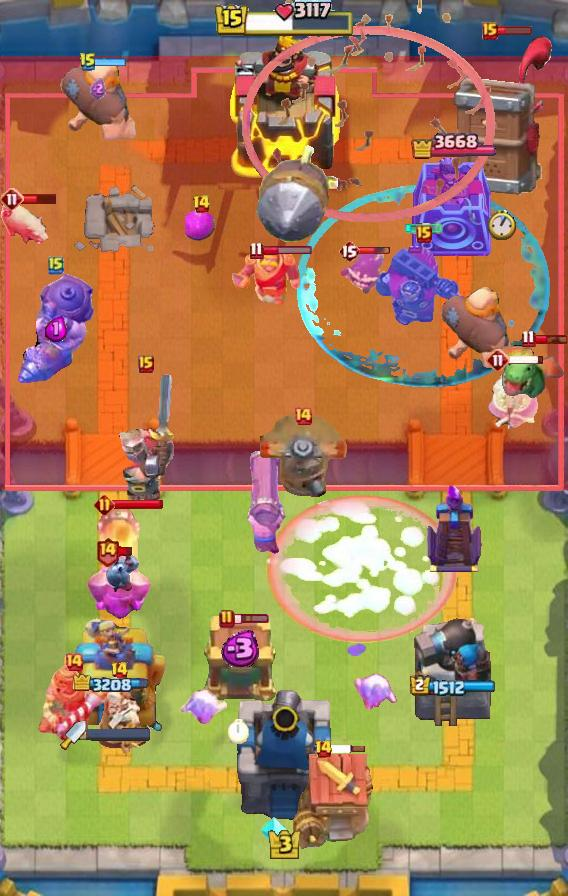balloon: (58, 58, 138, 146), (438, 286, 518, 374)
bar: (61, 615, 166, 731)
battle-healer: (242, 451, 288, 555)
bomb: (199, 615, 277, 703)
clock: (213, 0, 355, 40)
dark-prince: (258, 415, 348, 501)
dart-goblin: (452, 35, 552, 197)
electro-spirit: (216, 629, 260, 666), (45, 316, 67, 342), (90, 77, 106, 98)
electro-wizard: (492, 344, 568, 402)
elixir: (488, 209, 516, 239), (227, 719, 248, 744)
elixir-collector: (89, 683, 149, 753), (484, 363, 542, 429)
emote: (112, 498, 164, 510), (262, 245, 313, 256), (22, 191, 59, 204), (233, 613, 271, 625), (532, 333, 568, 345), (496, 24, 533, 35), (507, 355, 544, 366), (94, 56, 128, 67), (330, 744, 366, 754), (357, 246, 391, 256), (117, 546, 135, 557)
firecracker: (232, 250, 301, 307)
furnace: (86, 501, 154, 621)
giant: (0, 198, 52, 248)
ice-spirit: (404, 222, 444, 234)
ice-spirit-evolution-symbol: (424, 482, 484, 574)
inferno-tower: (370, 246, 478, 330)
king-tower: (226, 33, 342, 181), (232, 686, 336, 826)
king-tower-bar: (86, 727, 150, 740)
miner: (185, 211, 217, 241)
mirror: (351, 672, 401, 710), (181, 688, 231, 726)
pad_0: (297, 185, 551, 391)
pad_2: (259, 816, 289, 846)
phoenix-big: (265, 493, 459, 644)
queen-tower: (412, 158, 494, 256)
ram-rider: (35, 662, 113, 744)
royal-delivery: (101, 552, 143, 594)
selected: (412, 129, 497, 162), (411, 675, 498, 697), (73, 674, 155, 696)
skeleton-barrel: (242, 0, 497, 224)
sparky: (293, 753, 379, 851)
spear-goblin: (339, 249, 391, 295)
text: (96, 536, 121, 567), (0, 187, 24, 211), (486, 348, 510, 372), (338, 239, 360, 263), (94, 493, 115, 515), (293, 406, 313, 426), (64, 652, 84, 672), (193, 194, 212, 214), (111, 661, 130, 681), (315, 739, 334, 759), (79, 52, 97, 72), (48, 255, 64, 275), (219, 609, 235, 629), (482, 22, 498, 40), (416, 225, 432, 243), (138, 355, 154, 373), (248, 241, 263, 259), (520, 329, 535, 347)
tower-bar: (410, 611, 496, 731)
wall-breaker-evolution: (114, 372, 178, 506)
wizard: (15, 272, 97, 386)
x-bow: (255, 145, 345, 244)
